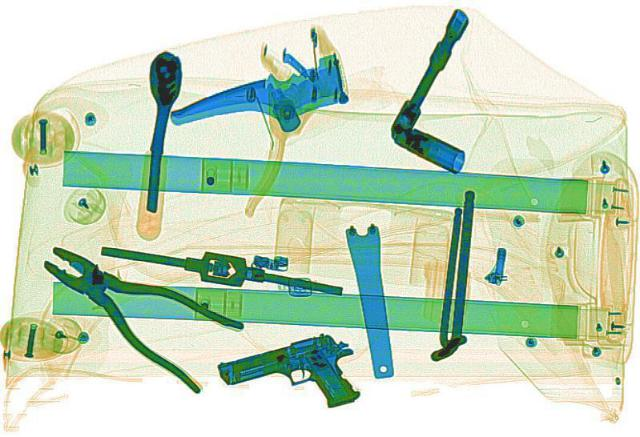Gun: (209, 328, 383, 427)
Pliers: (3, 227, 275, 394)
